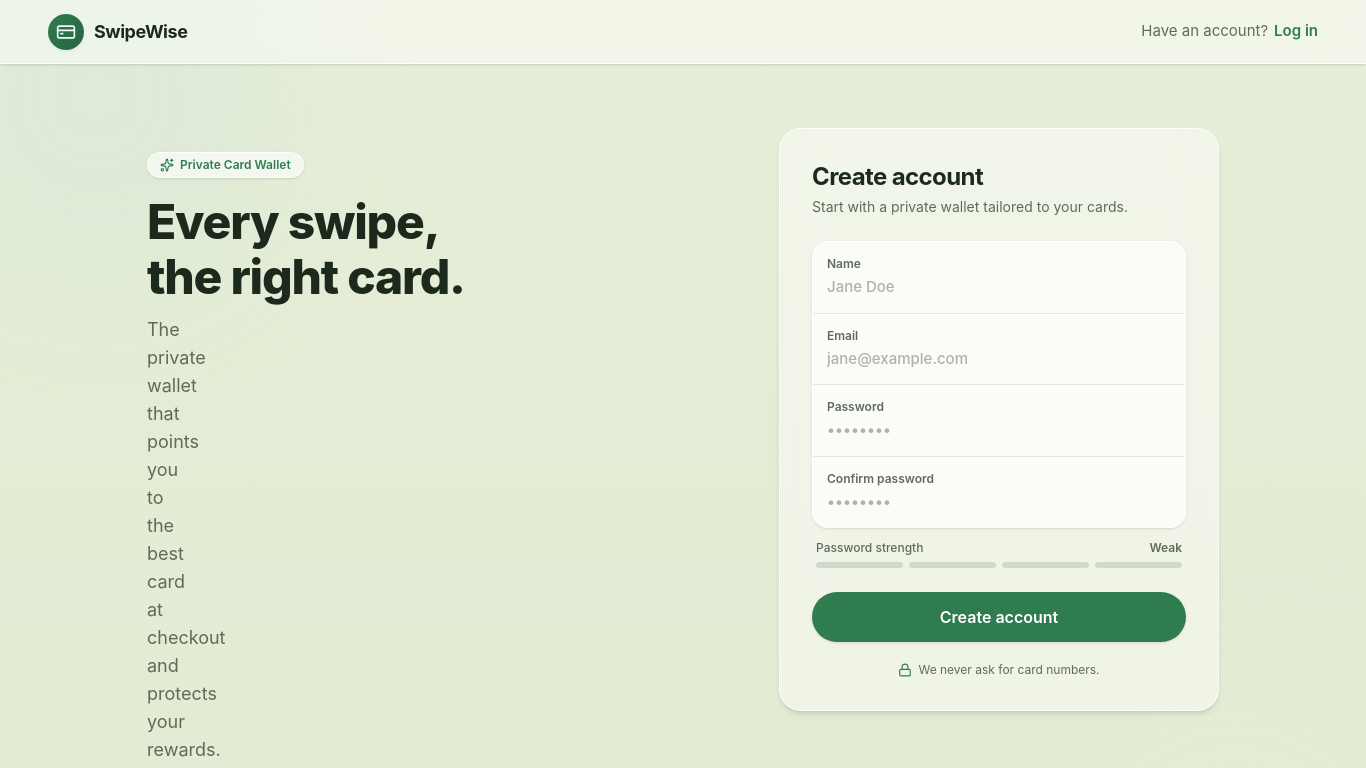
it: Sign up page (US-01) › AC2: updates password strength bar and helper text as user types
Type "abc" into the password field labelled "Password" at (999, 430), box x1=827 y1=419 x2=1171 y2=442
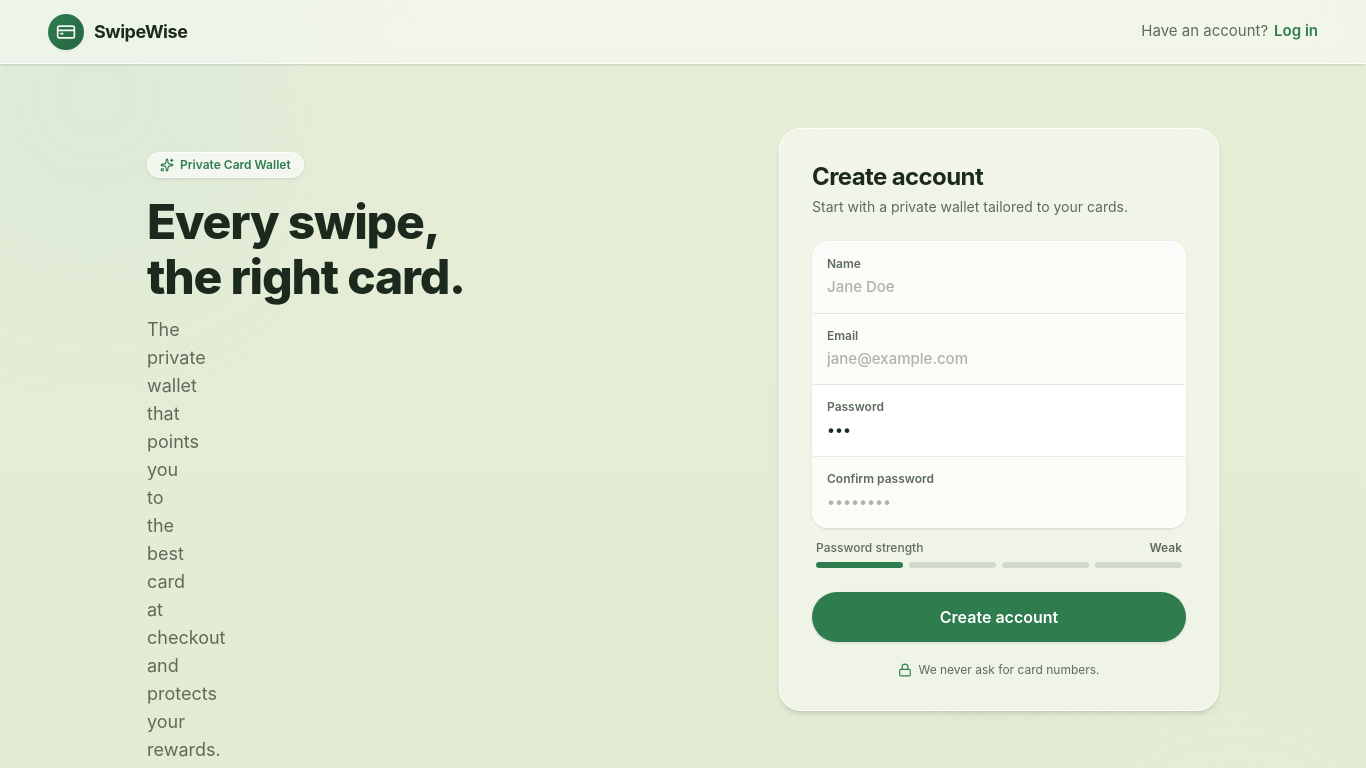
expect the text "Weak" is shown: met, box x1=1149 y1=540 x2=1182 y2=556
Type "12345" into the password field labelled "Password" at (999, 430), box x1=827 y1=419 x2=1171 y2=442
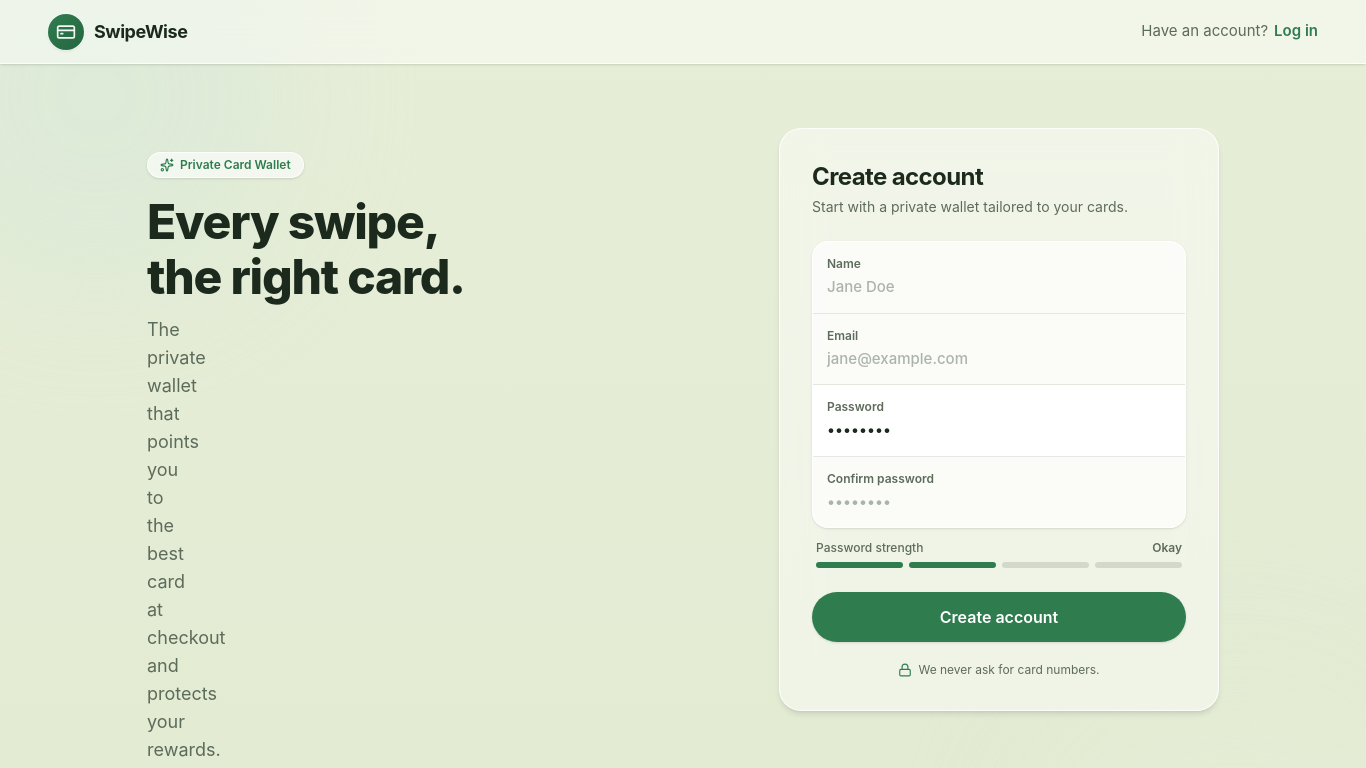
expect the text "Okay" is shown: met, box x1=1152 y1=540 x2=1182 y2=556
Type "A!" into the password field labelled "Password" at (999, 430), box x1=827 y1=419 x2=1171 y2=442
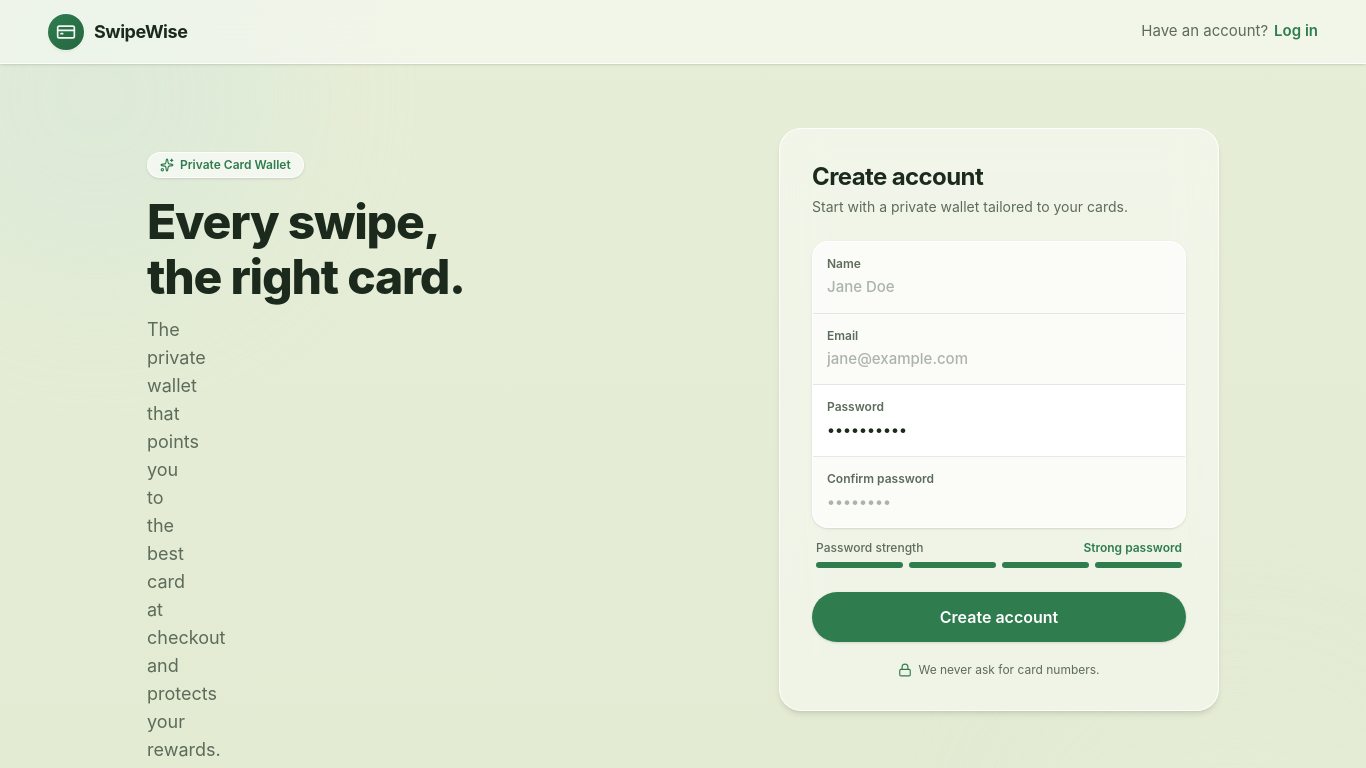
expect the text "Strong password" is shown: met, box x1=1083 y1=540 x2=1182 y2=556
